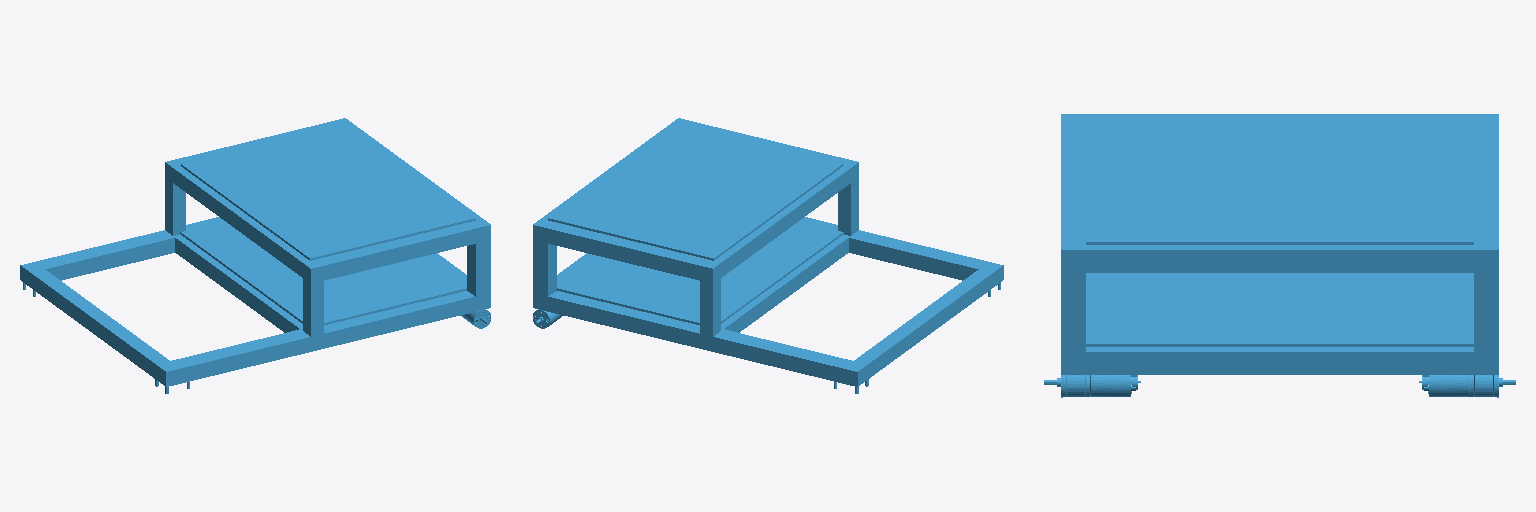
robot.urdf — sweebo:
<?xml version="1.0" ?>
<!-- =================================================================================== -->
<!-- |    This document was autogenerated by xacro from src/sweebo_description/urdf/sweebo.urdf.xacro | -->
<!-- |    EDITING THIS FILE BY HAND IS NOT RECOMMENDED                                 | -->
<!-- =================================================================================== -->
<robot name="sweebo">
  <link name="base_footprint"/>
  <link name="base_link">
    <!-- <inertial>
        <origin xyz="0.0 0.0 0.0" rpy="0.0 0.0 0.0"/>
        <mass value="0.0"/>
        <inertia ixx="0.0" ixy="0.0" ixz="0.0" iyy="0.0" iyz="0.0" izz="0.0"/>
    </inertial> -->
    <visual>
      <origin rpy="0.0 0.0 0.0" xyz="0.0 0.0 0.0"/>
      <geometry>
        <mesh filename="package://sweebo_description/meshes/base_link.stl" scale="0.001 0.001 0.001"/>
      </geometry>
      <!-- <material name="silver"/> -->
    </visual>
    <collision>
      <origin rpy="0.0 0.0 0.0" xyz="0.0 0.0 0.0"/>
      <geometry>
        <mesh filename="package://sweebo_description/meshes/base_link.stl" scale="0.001 0.001 0.001"/>
      </geometry>
    </collision>
  </link>
  <joint name="base_joint" type="fixed">
    <origin rpy="0.0 0.0 0.0" xyz="0.0 0.0 0.0"/>
    <parent link="base_footprint"/>
    <child link="base_link"/>
  </joint>
</robot>

--- What the picture shows (computed from the rendered views, not written in the file) ---
3 views of the same robot in one strip: view 1: azimuth 30°, elevation 25°; view 2: azimuth 150°, elevation 25°; view 3: azimuth 270°, elevation 25° (orthographic).
Robot: sweebo — 2 links, 1 joints (1 fixed); root link base_footprint; default pose: every joint at zero.
Visible links, largest first — view 1: base_link; view 2: base_link; view 3: base_link.
Link boxes in pixels (left/top/right/bottom): base_link: left=20, top=118, right=490, bottom=393; base_link: left=533, top=118, right=1003, bottom=393; base_link: left=1044, top=114, right=1515, bottom=397.
Size in the robot's own frame: 0.45 by 0.3767 by 0.1374 metres.
Meshes: 1 distinct files referenced, 1 mesh visuals loaded (1 binary STL).